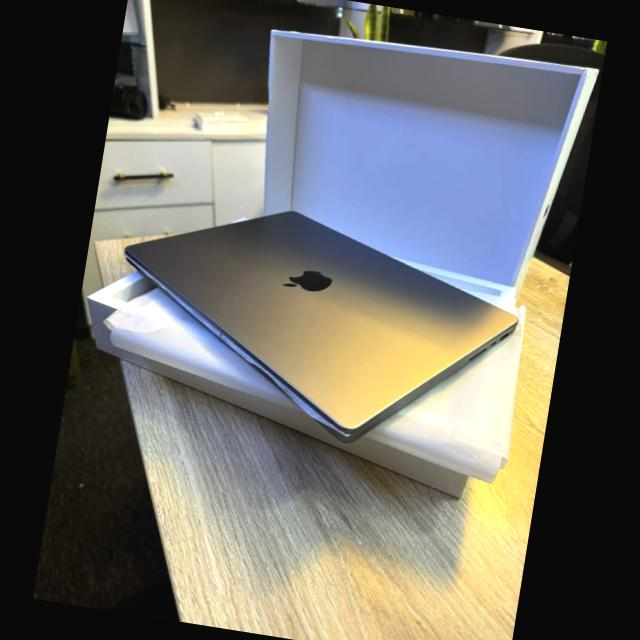laptop: (101, 184, 508, 449)
